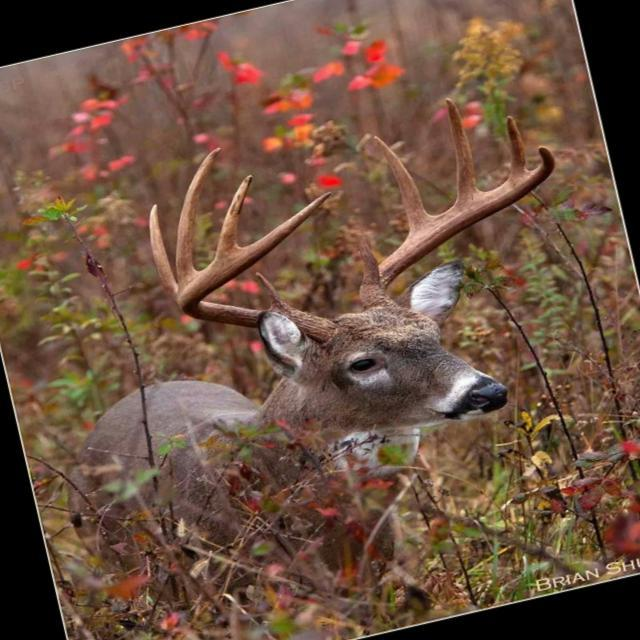L-F: (363, 144, 555, 309)
L-G1: (357, 237, 380, 296)
L-G2: (373, 134, 433, 233)
L-G3: (444, 97, 484, 207)
L-G4: (505, 116, 529, 182)
R-F: (177, 190, 336, 345)
R-G1: (253, 271, 291, 309)
R-G2: (148, 203, 181, 305)
R-G3: (175, 146, 222, 289)
R-G4: (211, 174, 252, 265)
